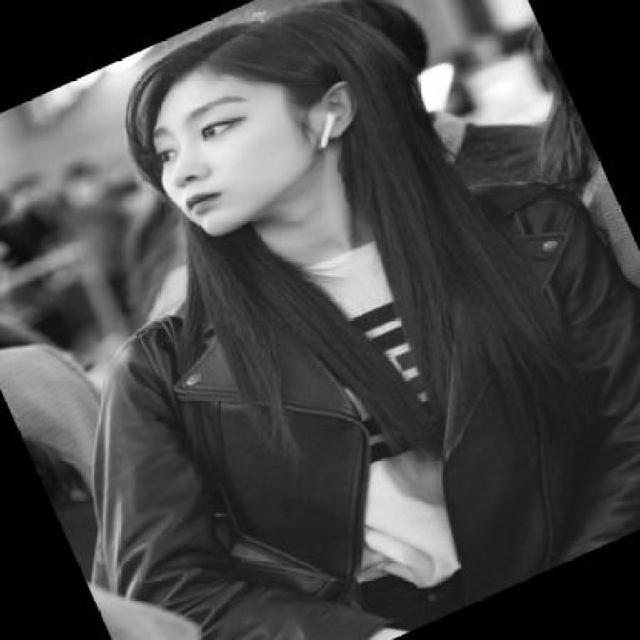earphone: (310, 104, 352, 154)
